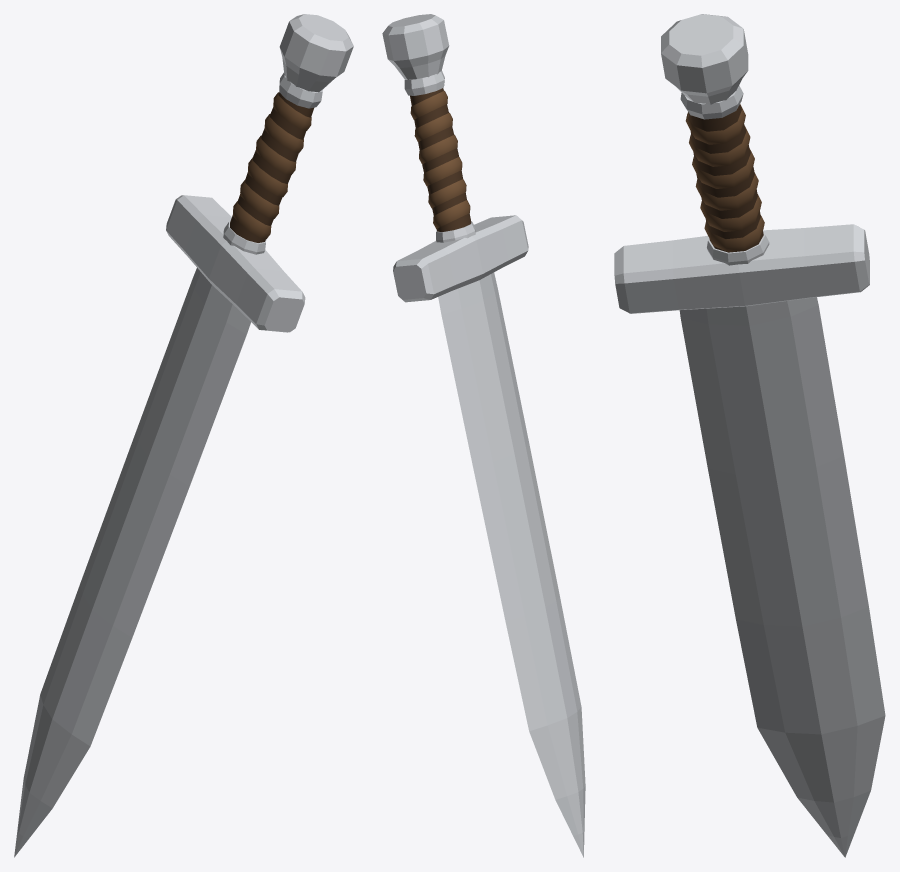
File: Shortsword_Base-KiZUBME-.glb
3 renders of one model, left to right at view 1: azimuth 30°, elevation 25°; view 2: azimuth 150°, elevation 25°; view 3: azimuth 270°, elevation 25°, orthographic. The views are drawn at different scales.
Visible parts, largest first — view 1: Shortsword_Base.001; view 2: Shortsword_Base.001; view 3: Shortsword_Base.001.
Boxes of the visible parts, left/top/right/bottom form: Shortsword_Base.001: left=14, top=14, right=353, bottom=857; Shortsword_Base.001: left=382, top=14, right=585, bottom=857; Shortsword_Base.001: left=614, top=14, right=885, bottom=857.
Size of the model in its own units: 0.2278 by 0.6502 by 0.1635.
